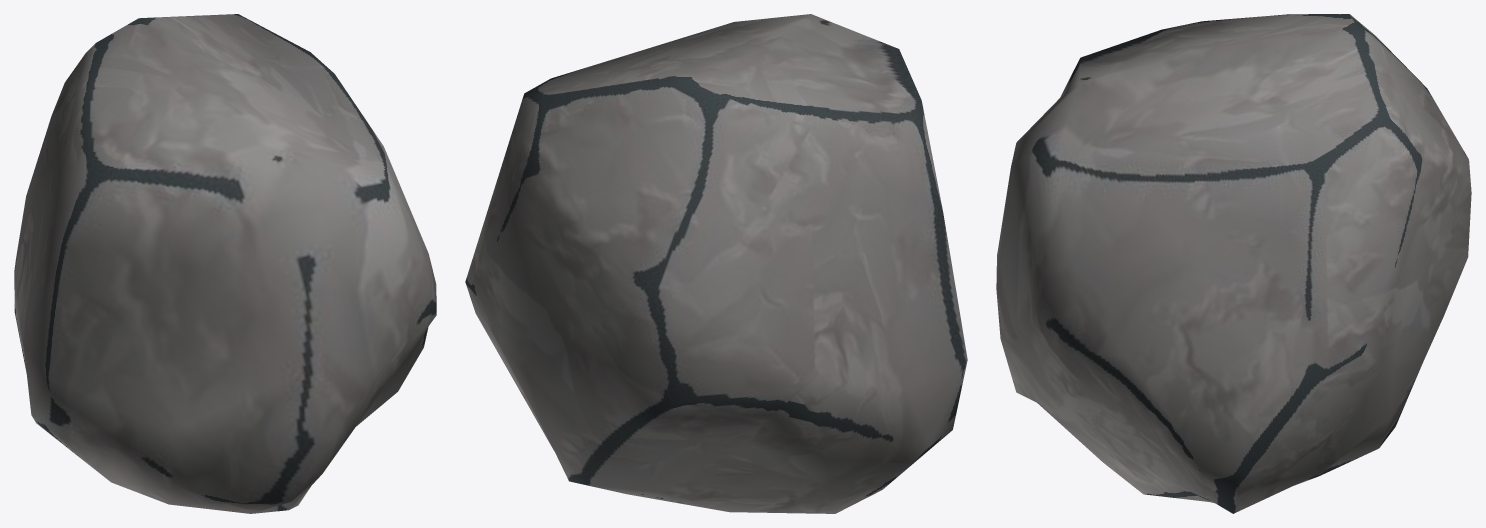
Rendered from SM_Batu1.fbx.
3 views of the same model, side by side, from view 1: azimuth 30°, elevation 25°; view 2: azimuth 150°, elevation 25°; view 3: azimuth 270°, elevation 25° (orthographic). The views are drawn at different scales.
Visible parts, largest first — view 1: L_Batu3; view 2: L_Batu3; view 3: L_Batu3.
Part boxes in pixels (x1,y1,x2,y2): L_Batu3: [14, 14, 436, 513]; L_Batu3: [465, 14, 967, 513]; L_Batu3: [996, 14, 1471, 513].
Size of the model in its own units: 220 by 235 by 227.
